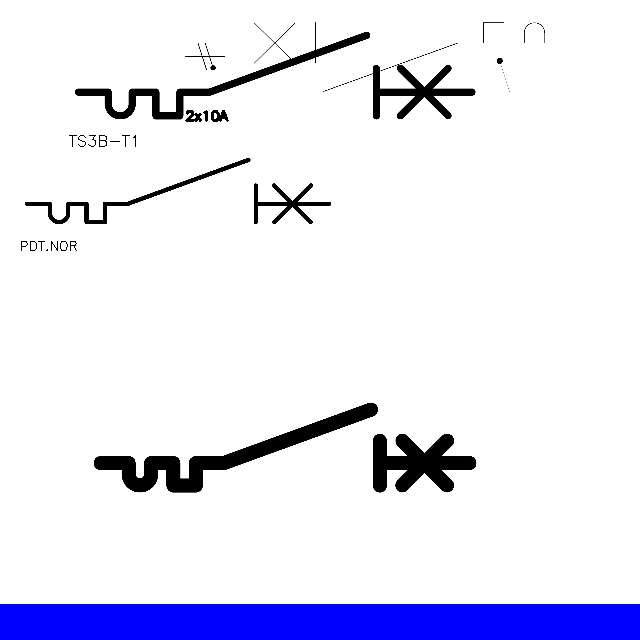interruptor_termomagnetico: (68, 25, 482, 126), (91, 400, 479, 495), (225, 14, 579, 100), (19, 152, 337, 230)
